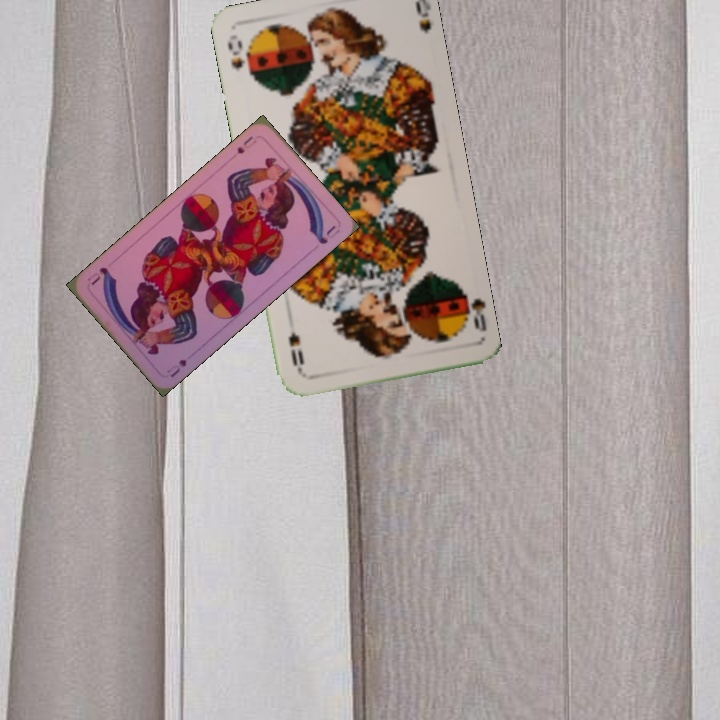SO: (455, 283, 489, 334), (223, 30, 254, 78)
SU: (162, 355, 189, 380), (233, 132, 259, 157)
